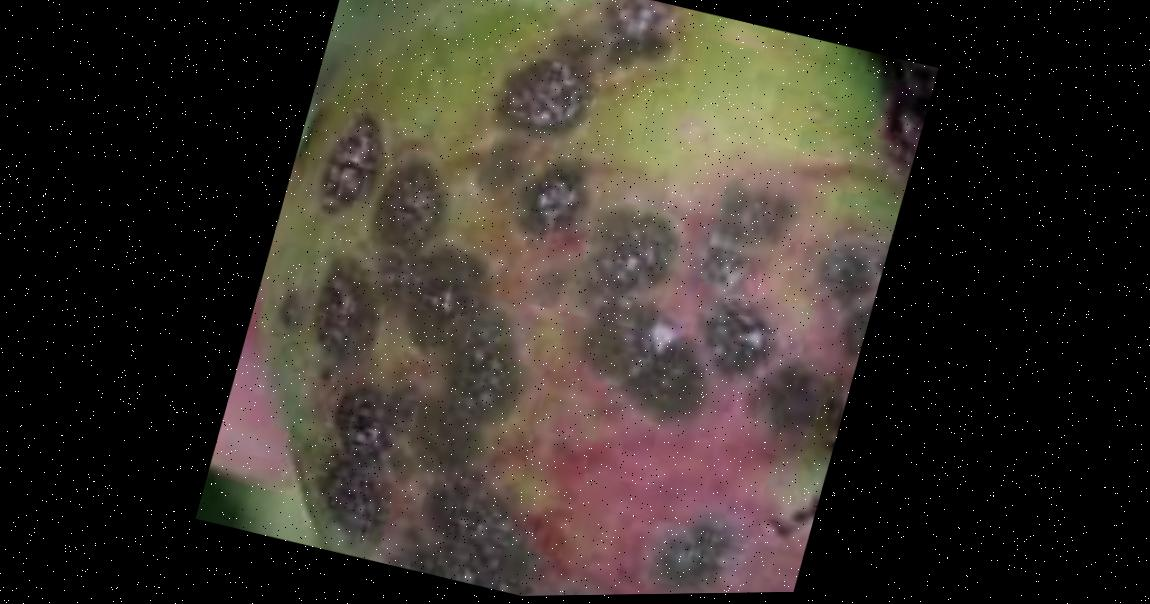SCAB: (218, 0, 930, 601)
